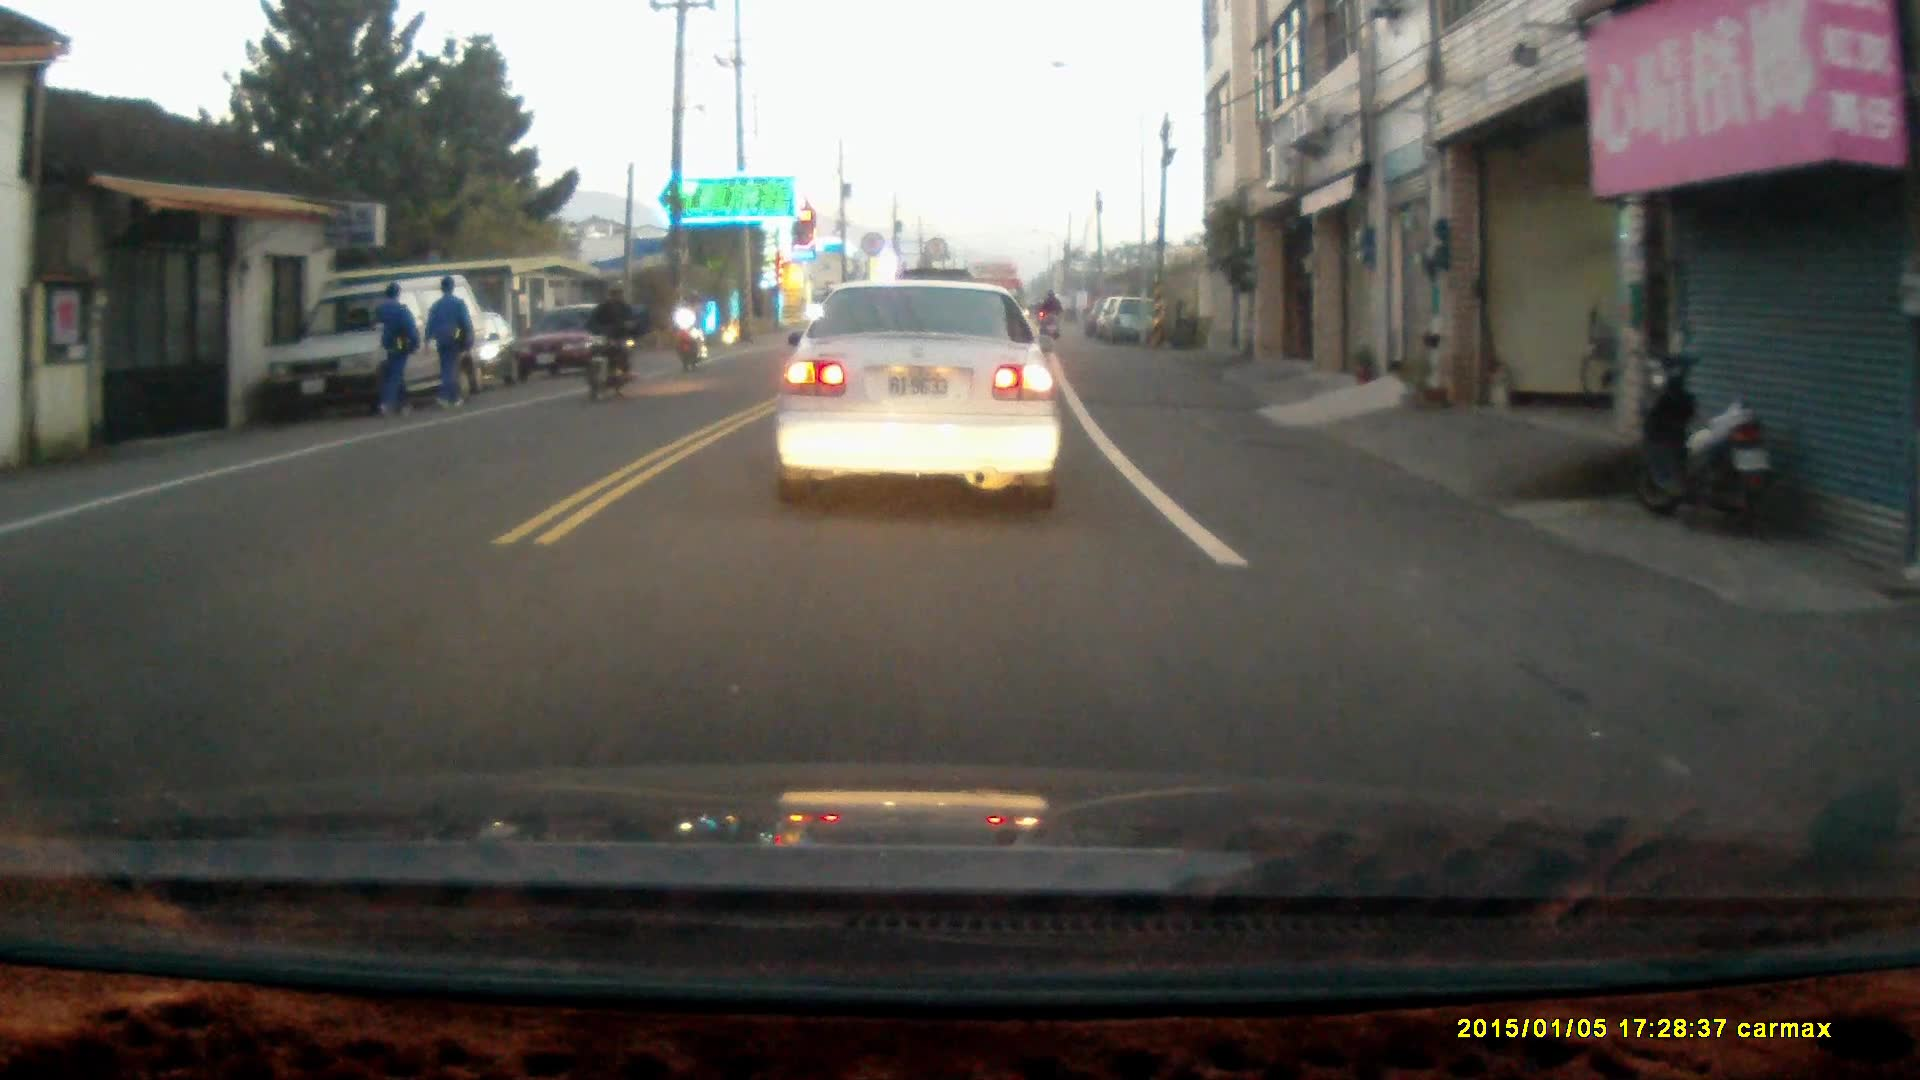pedestrian: (423, 272, 473, 414), (369, 280, 418, 421)
rider: (577, 284, 650, 406), (671, 286, 706, 373)
vehicle: (770, 276, 1065, 512), (266, 275, 498, 414), (519, 306, 633, 386)
